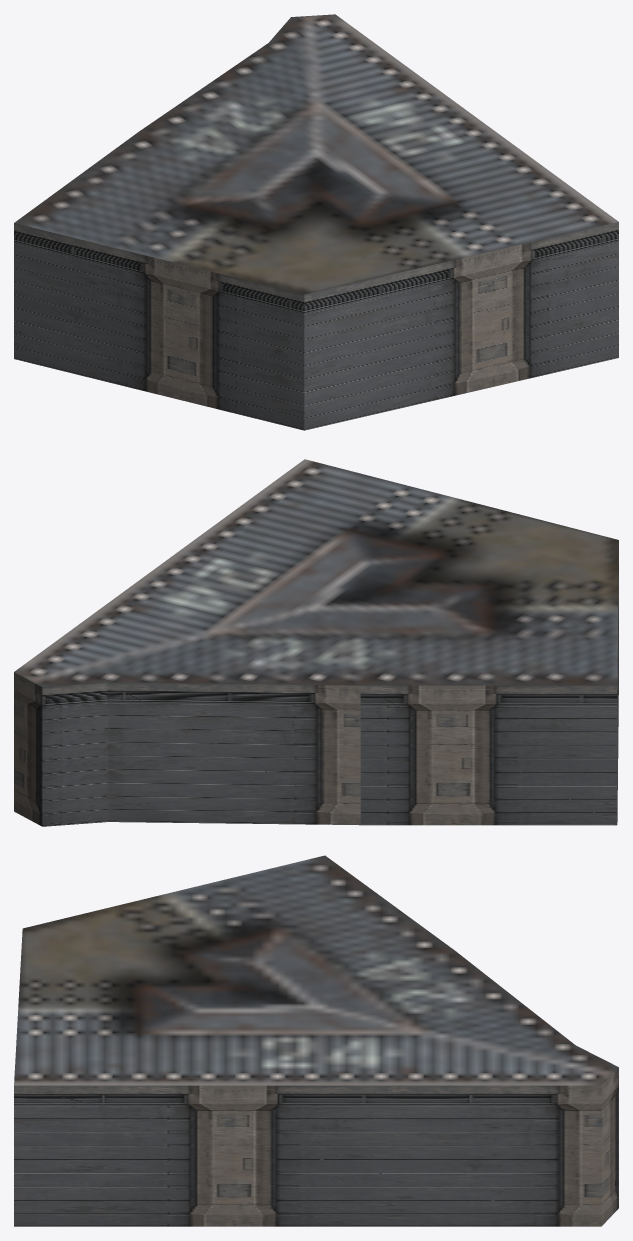
Rendered from hangar_hard_24.glb.
3 views of the same model, one above another, from view 1: azimuth 30°, elevation 25°; view 2: azimuth 150°, elevation 25°; view 3: azimuth 270°, elevation 25° (orthographic). The views are drawn at different scales.
Visible parts, largest first — view 1: buildings/saxarba/hangar_hard/hangar_hard_24; view 2: buildings/saxarba/hangar_hard/hangar_hard_24; view 3: buildings/saxarba/hangar_hard/hangar_hard_24.
Boxes of the visible parts, x1,y1,x2,y2 form: buildings/saxarba/hangar_hard/hangar_hard_24: (14,14,618,430); buildings/saxarba/hangar_hard/hangar_hard_24: (14,459,618,826); buildings/saxarba/hangar_hard/hangar_hard_24: (14,855,618,1226).
Size of the model in its own units: 63 by 18 by 70.
